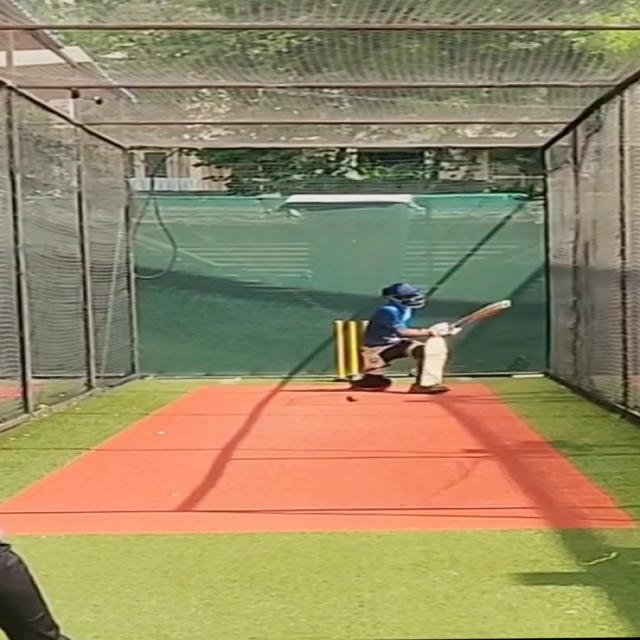ball: (342, 394, 358, 403)
stump: (331, 318, 362, 380)
